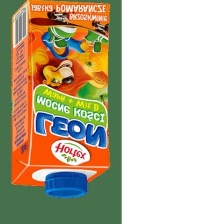carton: (6, 0, 121, 199)
